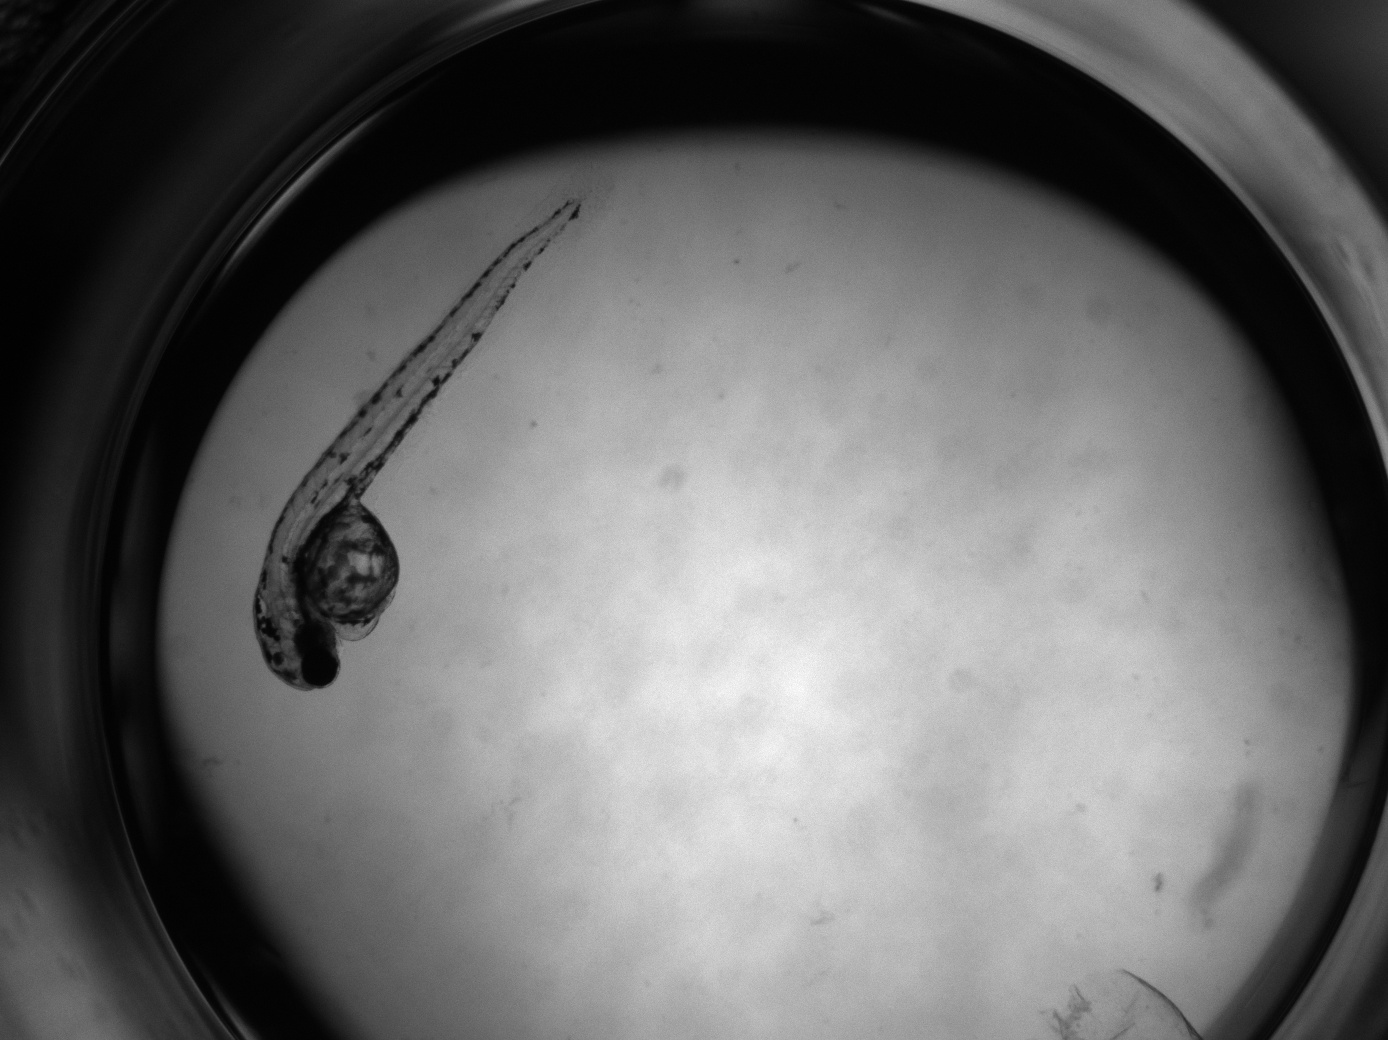embryo: (252, 189, 588, 690)
eye: (302, 653, 339, 687), (294, 622, 325, 655)
yolksac: (296, 503, 401, 621)
